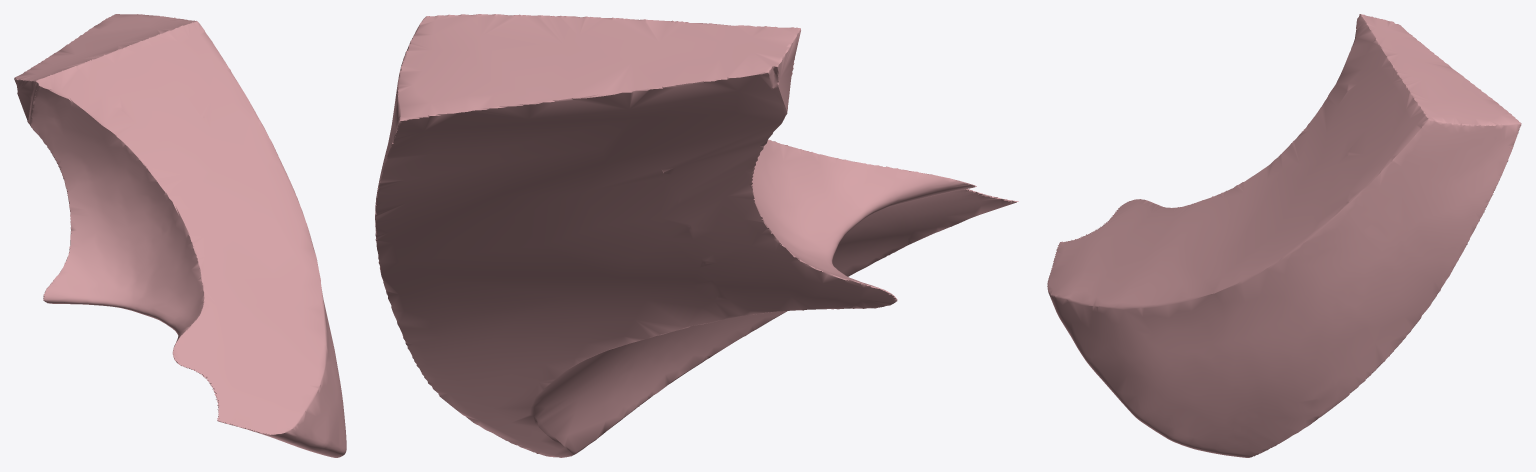
File: fma27392_fj6602.glb
3 renders of one model, left to right at view 1: azimuth 30°, elevation 25°; view 2: azimuth 150°, elevation 25°; view 3: azimuth 270°, elevation 25°, orthographic. The views are drawn at different scales.
Parts seen in each view (by area): view 1: FMA27392_FJ6602; view 2: FMA27392_FJ6602; view 3: FMA27392_FJ6602.
Boxes of the visible parts, x1,y1,x2,y2 form: FMA27392_FJ6602: (14,14,346,457); FMA27392_FJ6602: (375,14,1018,457); FMA27392_FJ6602: (1047,14,1521,457).
Size of the model in its own units: 0.0921 by 0.1216 by 0.1515.
